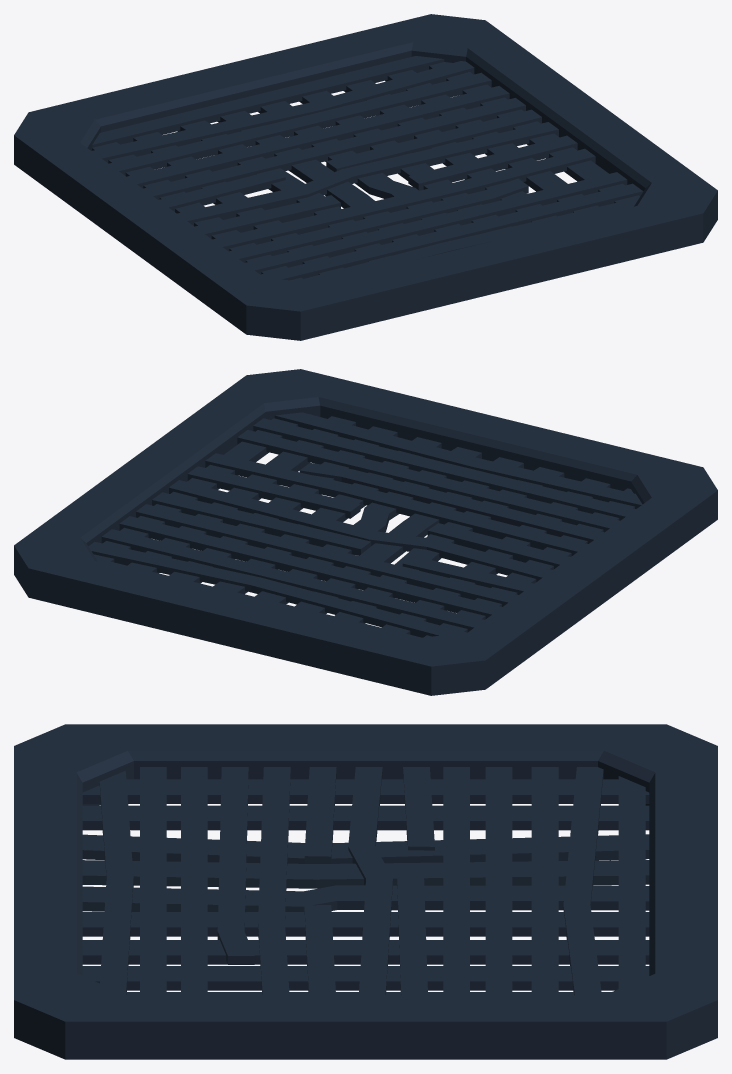
The model's file is Metal Mesh 02.FBX.
3 views of the same model, one above another, from view 1: azimuth 30°, elevation 25°; view 2: azimuth 150°, elevation 25°; view 3: azimuth 270°, elevation 25° (orthographic). The views are drawn at different scales.
Visible parts, largest first — view 1: Metal Mesh 02; view 2: Metal Mesh 02; view 3: Metal Mesh 02.
Part boxes in pixels (x1=…): Metal Mesh 02: x1=14, y1=14, x2=717, y2=340; Metal Mesh 02: x1=14, y1=369, x2=717, y2=695; Metal Mesh 02: x1=14, y1=724, x2=717, y2=1059.
Size of the model in its own units: 800 by 47.56 by 800.
1 material, 1 textured.
